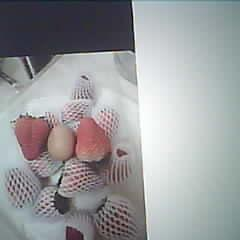straw-ripe: (75, 118, 111, 161), (17, 116, 48, 159)
